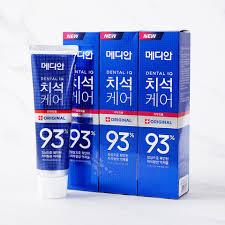toothpaste: (25, 40, 83, 203)
